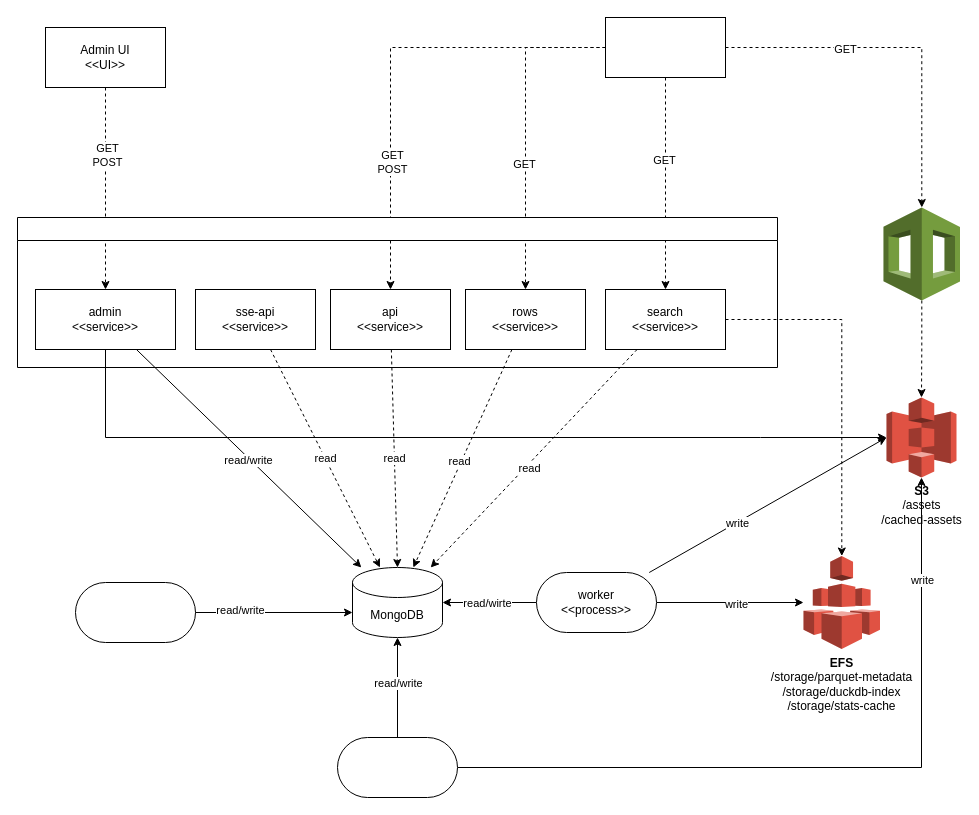
This 979x815 diagram has some shape labels left out. Here are the shapes that lost their labels. From the top down, the box of each, then its label:
(604, 16, 726, 78): Hugging Face Hub <<UI>>
(882, 206, 960, 300): Cloudfront
(16, 216, 778, 368): Reverse Proxy
(74, 582, 196, 642): mongodb migrations <<job>>
(336, 736, 458, 798): cache maintenance <<job>>
